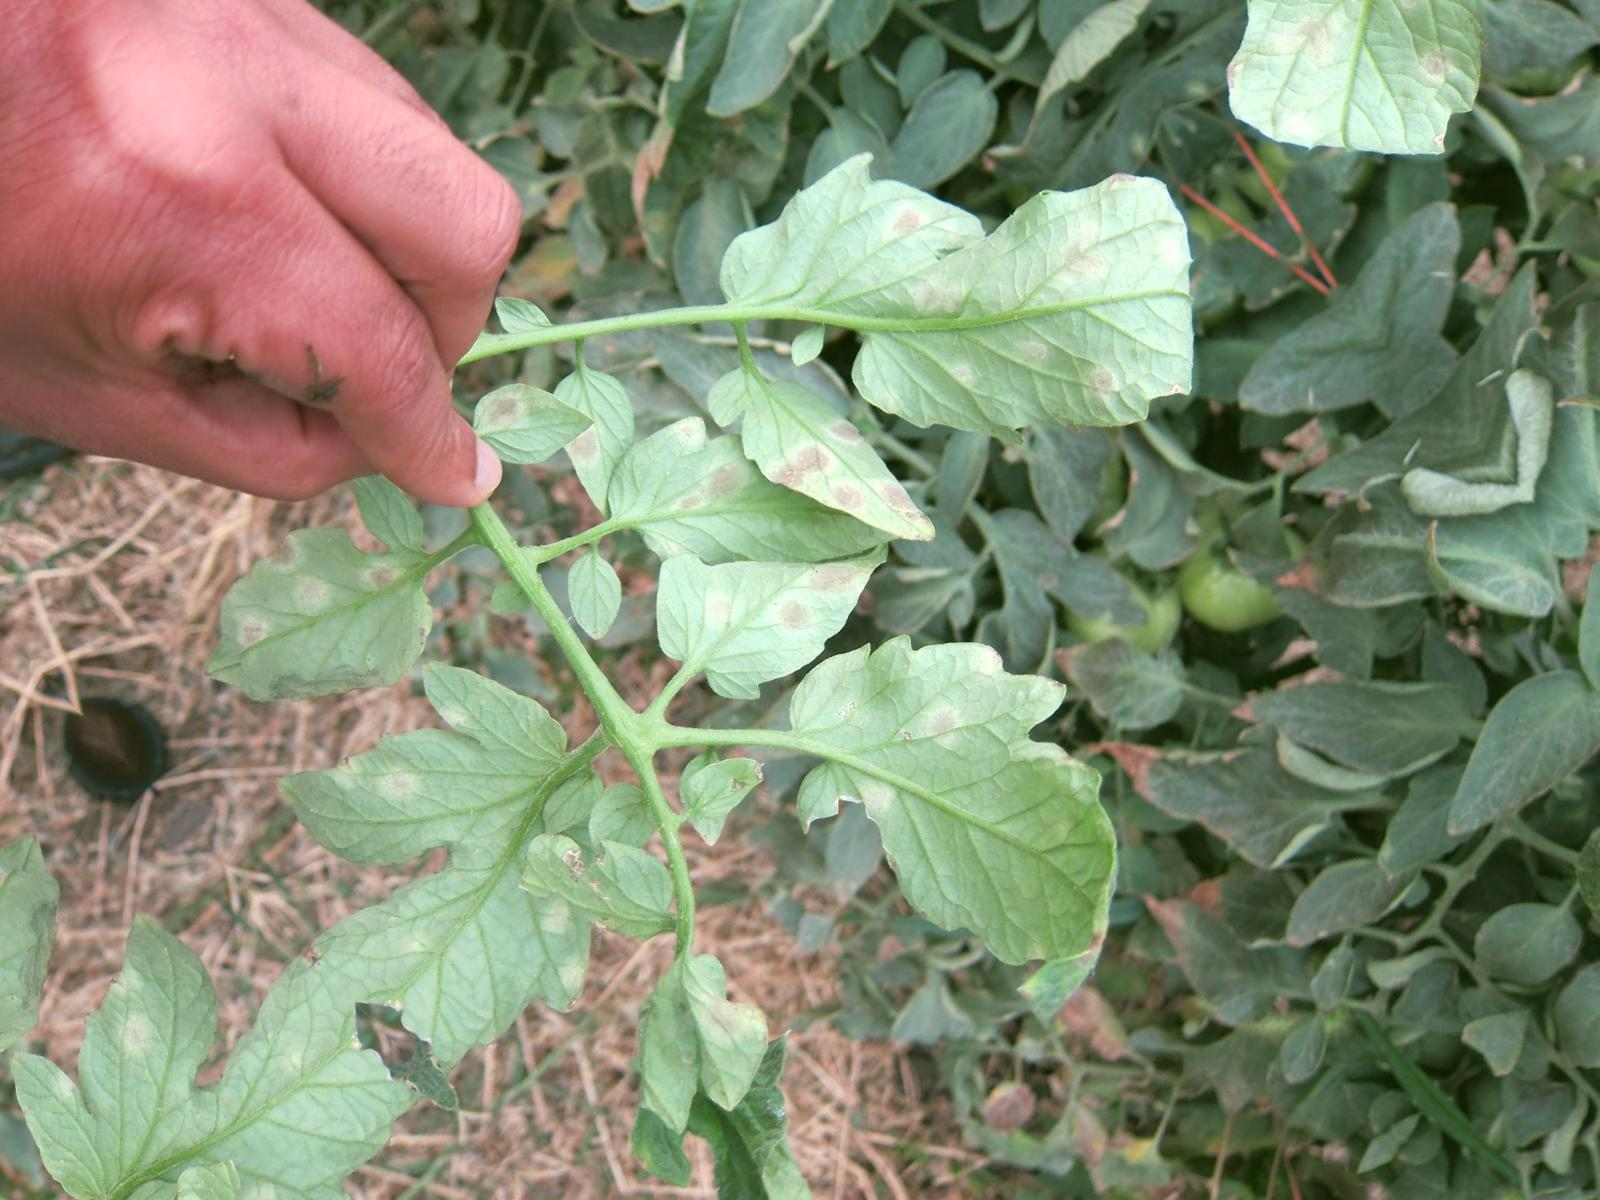Tomato mold leaf: (703, 0, 1296, 589), (736, 548, 1266, 1085), (223, 619, 695, 1093), (527, 933, 971, 1200), (574, 345, 908, 681), (166, 453, 503, 785), (602, 427, 923, 746), (680, 292, 980, 600), (504, 785, 711, 993), (455, 332, 629, 504)
